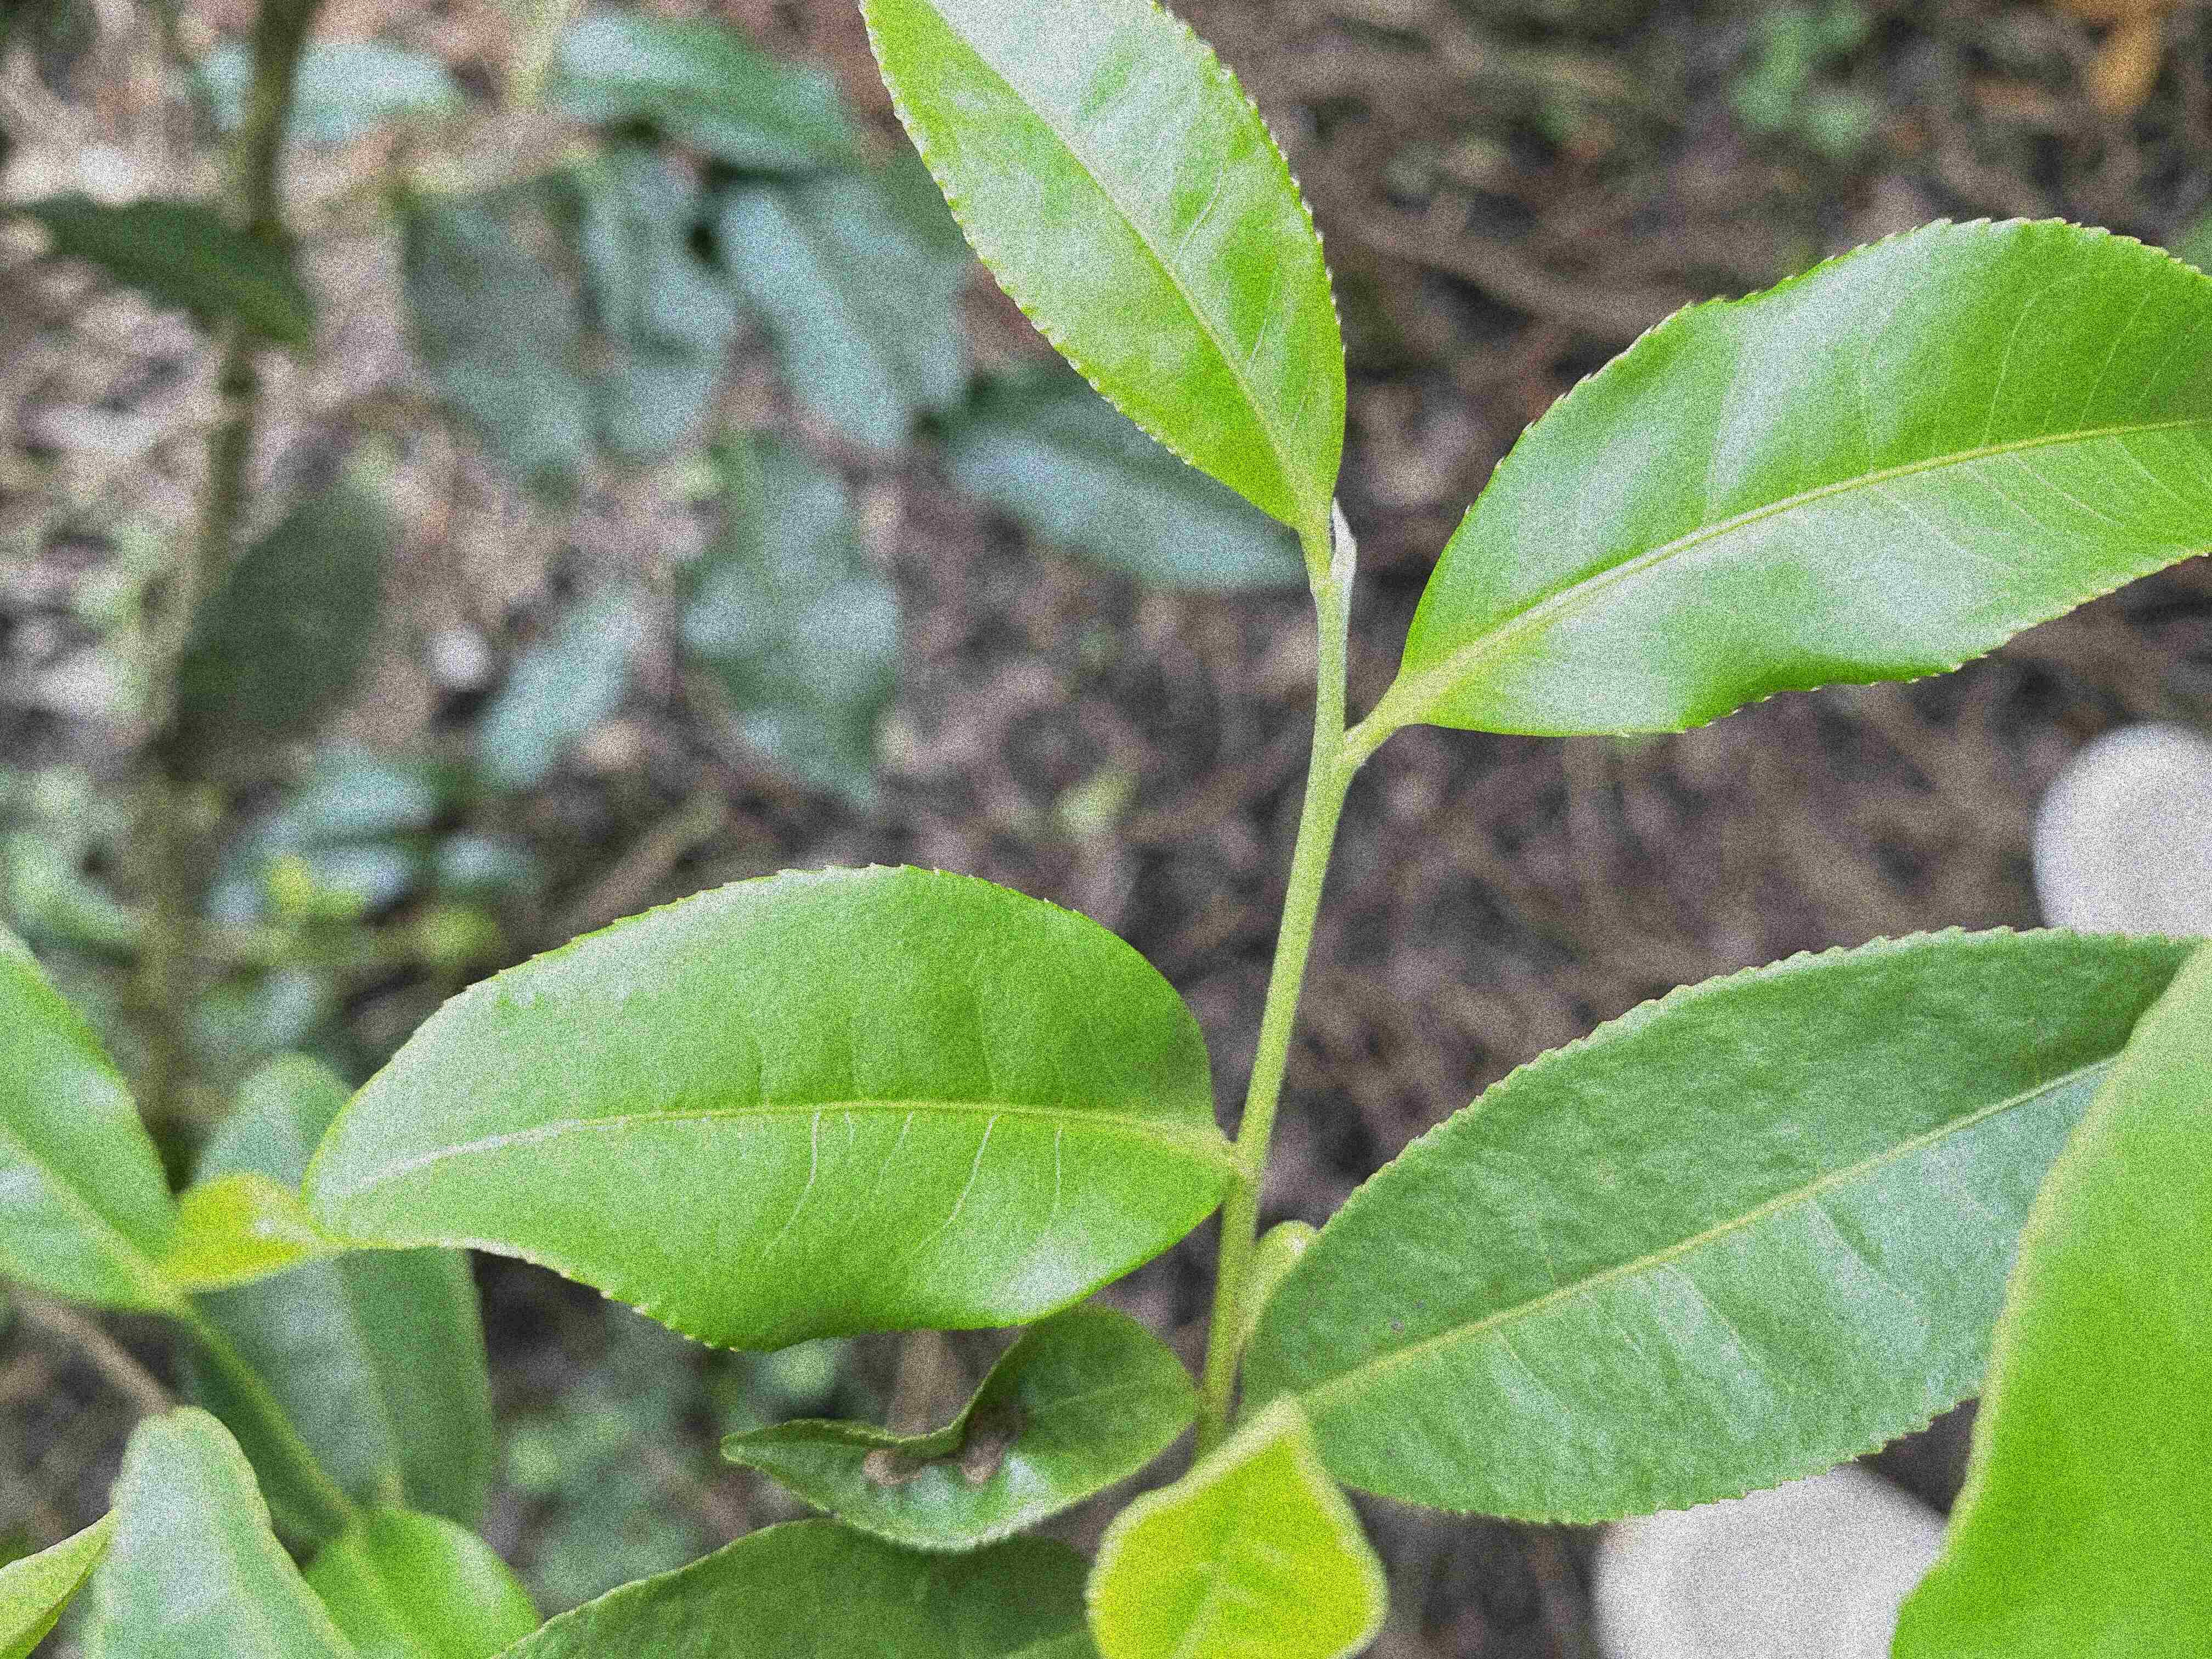healthy: (1254, 920, 2205, 1523), (303, 856, 1237, 1358), (1395, 206, 2207, 741), (860, 2, 1353, 533)
tanju_high: (723, 1314, 1202, 1553)
